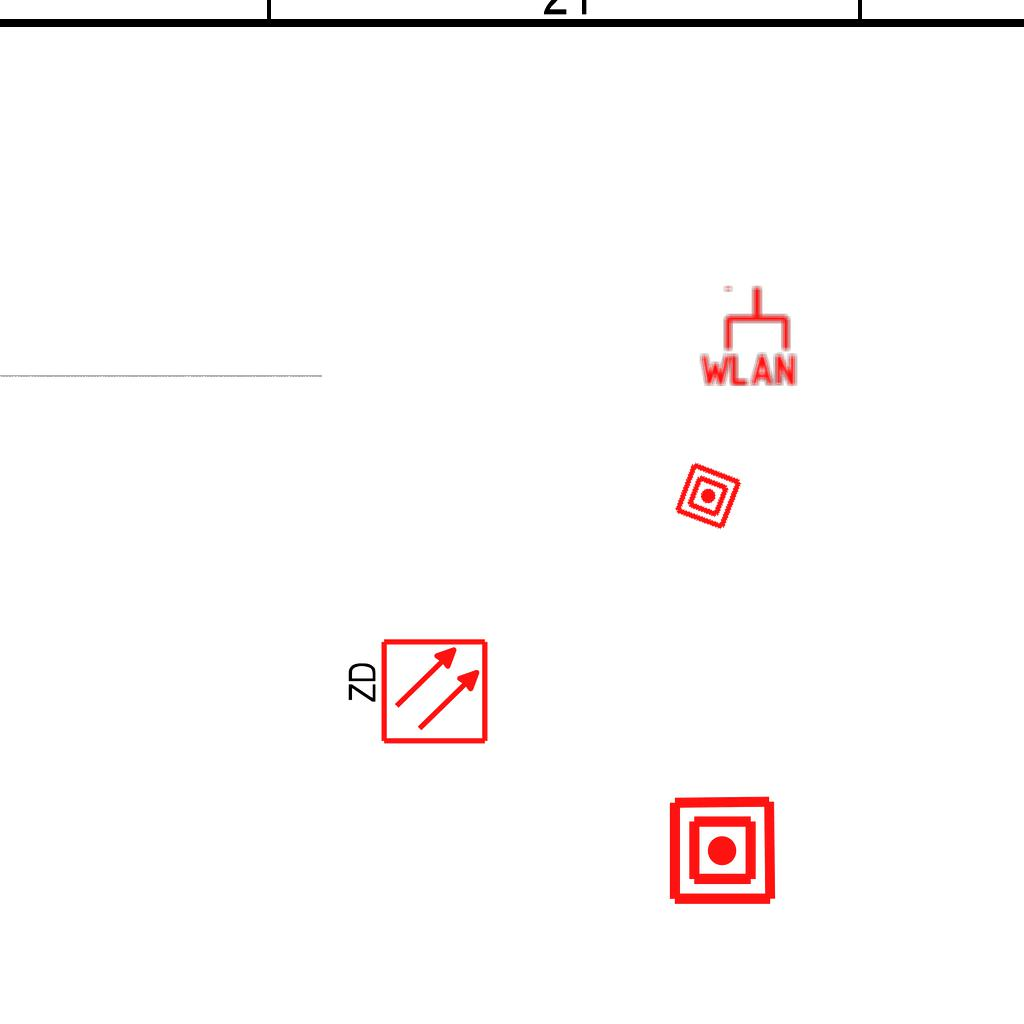NAM-Nichtautomatischer_Melder: (666, 794, 779, 907), (671, 459, 745, 533)
WLAN: (696, 283, 800, 388)
ZD_Melder_in_Zwischendecke_mit_Revisionsoeffnung_mind_40_x_40_cm: (341, 636, 490, 750)
